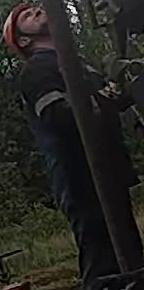gloves: (107, 57, 130, 86)
helmet: (3, 2, 35, 61)
vest: (17, 51, 134, 199)
